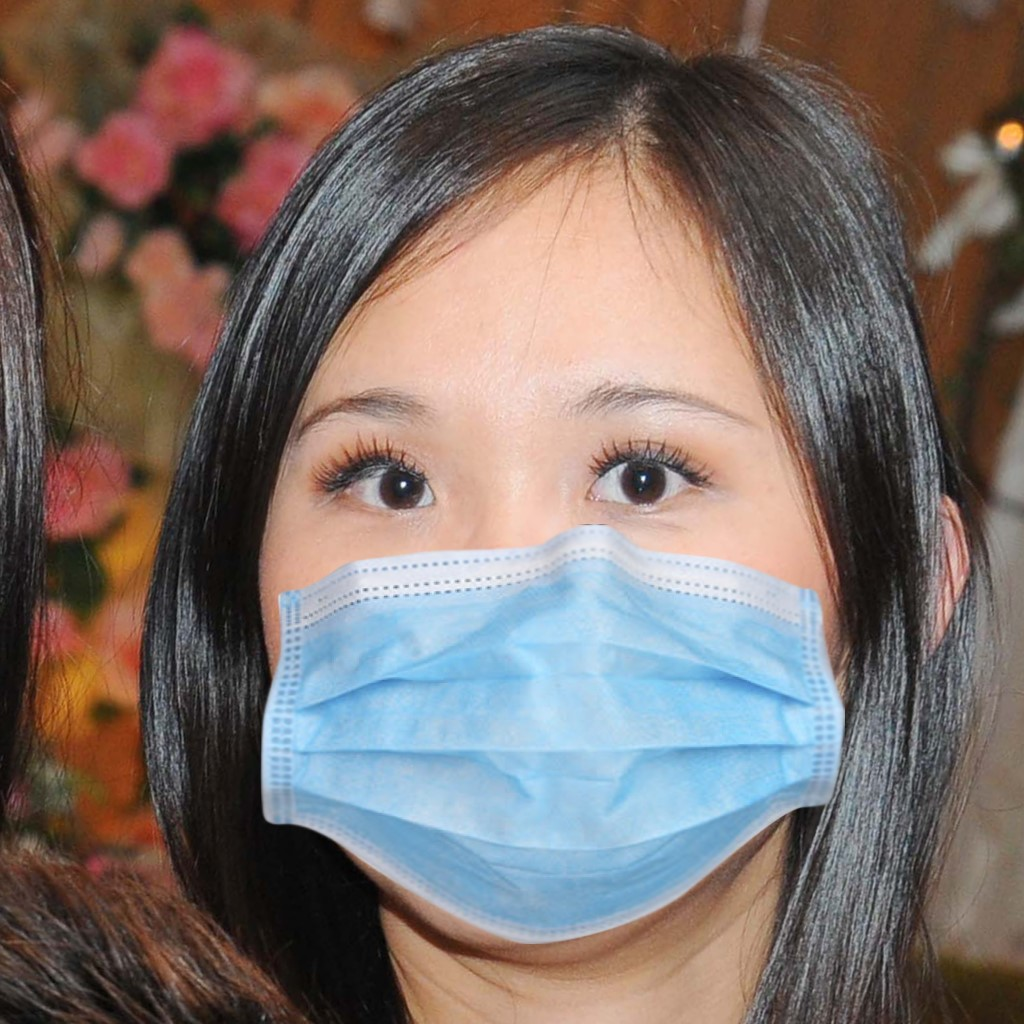con_mascara: (264, 141, 855, 941)
